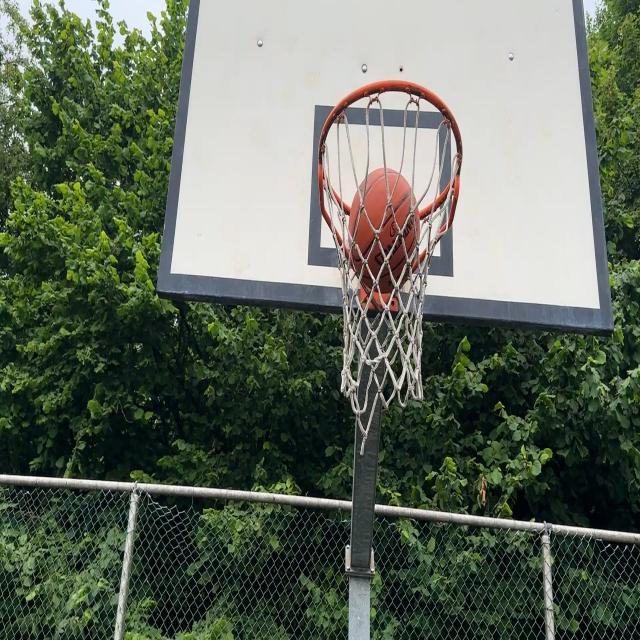Goal: (348, 169, 421, 293)
